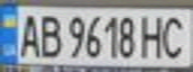1: (103, 12, 121, 60)
6: (81, 11, 103, 60)
8: (118, 12, 139, 60)
9: (63, 11, 84, 58)
A: (15, 10, 42, 58)
B: (36, 11, 63, 58)
C: (157, 11, 193, 60)
H: (139, 11, 169, 60)
